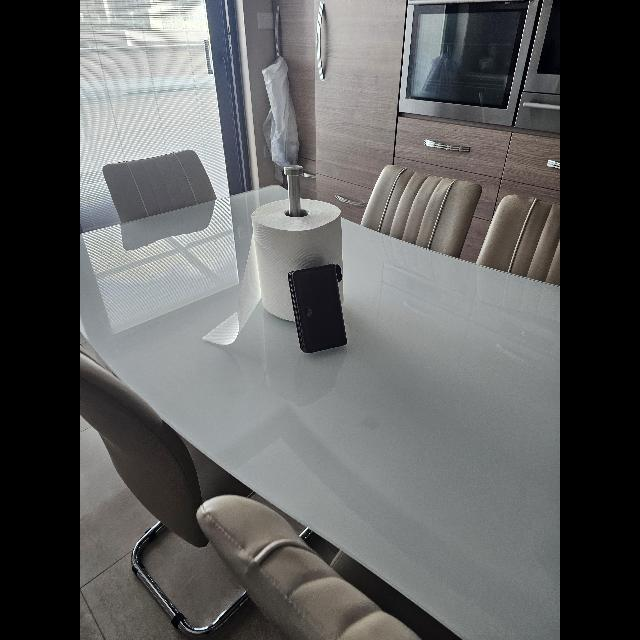Wallet: (286, 264, 348, 352)
